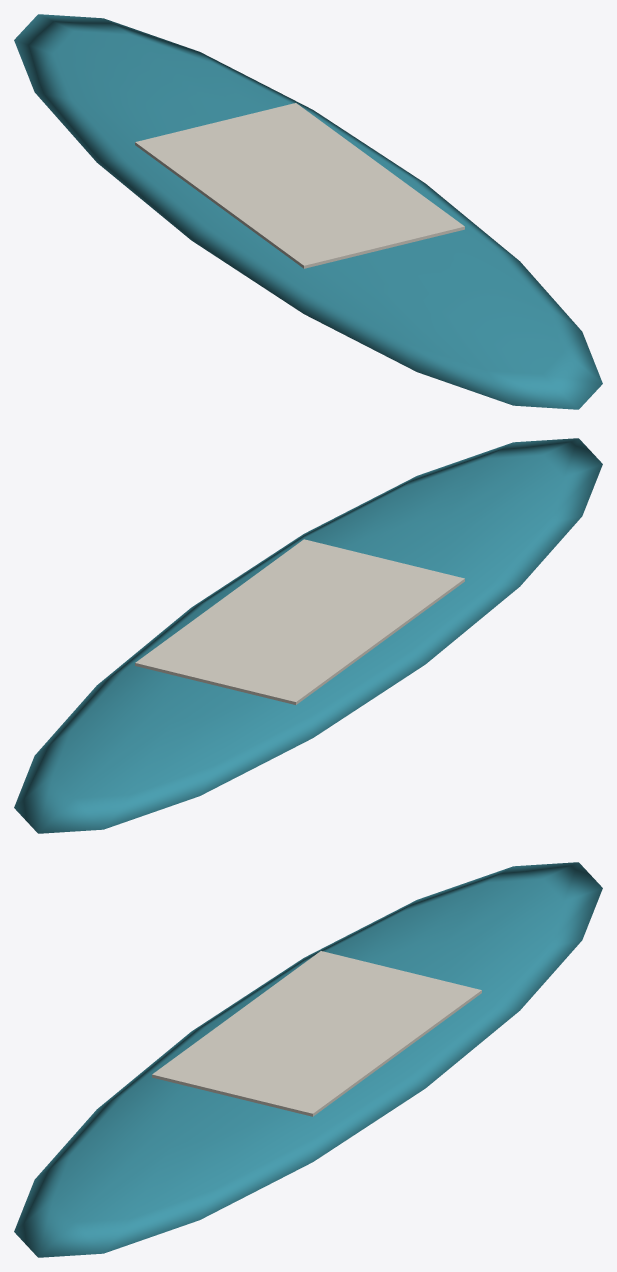
Rendered from sup_board.glb.
3 views of the same model, one above another, from view 1: azimuth 30°, elevation 25°; view 2: azimuth 150°, elevation 25°; view 3: azimuth 330°, elevation 25° (orthographic).
Parts seen in each view (by area): view 1: sup_board; view 2: sup_board; view 3: sup_board.
Part boxes in pixels (x1,y1,x2,y2): sup_board: (14,14,602,409); sup_board: (14,438,602,833); sup_board: (14,862,602,1257).
Size of the model in its own units: 0.8001 by 0.1301 by 3.2.
